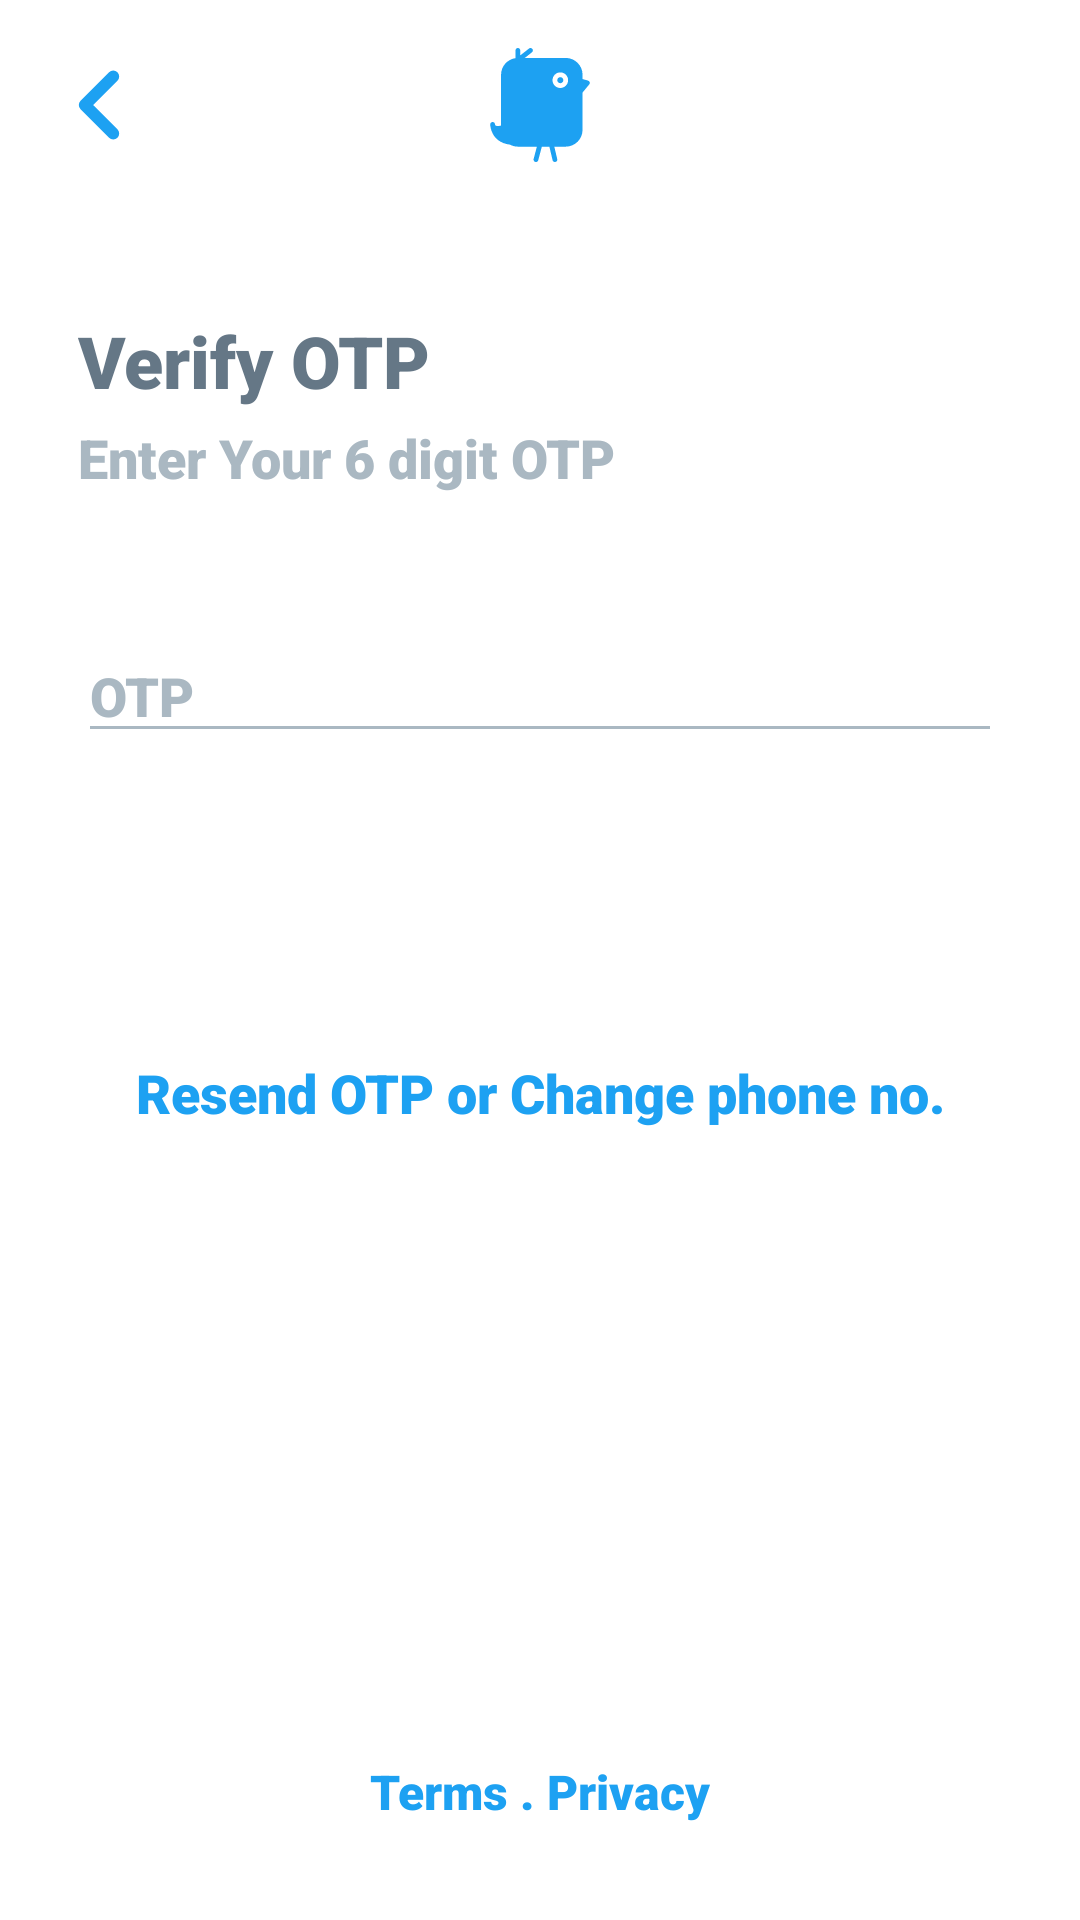

Screen size 1080px x 1920px. Icon name, then its center in pixels as [x,y]:
back: [99,105]
